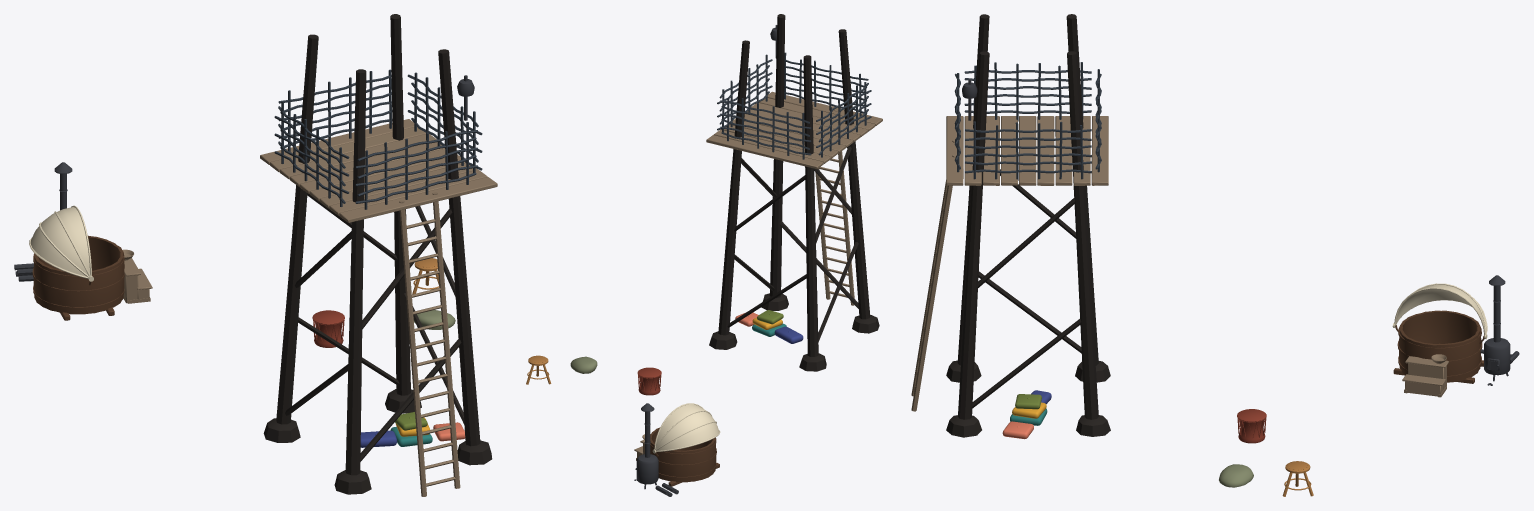
File: nomad_hearth_plaza_decor.fbx
The picture shows the model from 3 angles, left to right: view 1: azimuth 30°, elevation 25°; view 2: azimuth 150°, elevation 25°; view 3: azimuth 270°, elevation 25°; orthographic projection. The views are drawn at different scales.
Visible parts, largest first — view 1: C__Watchtower__01, C__SteamTub__01, C__Cushions_Pile__01, C__Stool_Set__01; view 2: C__Watchtower__01, C__SteamTub__01, C__Cushions_Pile__01, C__Stool_Set__01; view 3: C__Watchtower__01, C__SteamTub__01, C__Stool_Set__01, C__Cushions_Pile__01, C__SeatingStones_Ring__01.
Boxes of the visible parts, <box> form: C__Watchtower__01: <box>260,14,497,496</box>; C__SteamTub__01: <box>14,162,152,320</box>; C__Cushions_Pile__01: <box>360,412,465,447</box>; C__Stool_Set__01: <box>312,258,439,347</box>; C__Watchtower__01: <box>706,14,882,371</box>; C__SteamTub__01: <box>634,403,720,496</box>; C__Cushions_Pile__01: <box>735,310,803,343</box>; C__Stool_Set__01: <box>526,355,661,395</box>; C__Watchtower__01: <box>911,14,1110,437</box>; C__SteamTub__01: <box>1392,275,1519,397</box>; C__Stool_Set__01: <box>1237,409,1313,496</box>; C__Cushions_Pile__01: <box>1002,390,1051,439</box>; C__SeatingStones_Ring__01: <box>1219,464,1253,487</box>.
Size of the model in its own units: 1183 by 1400 by 2079.
